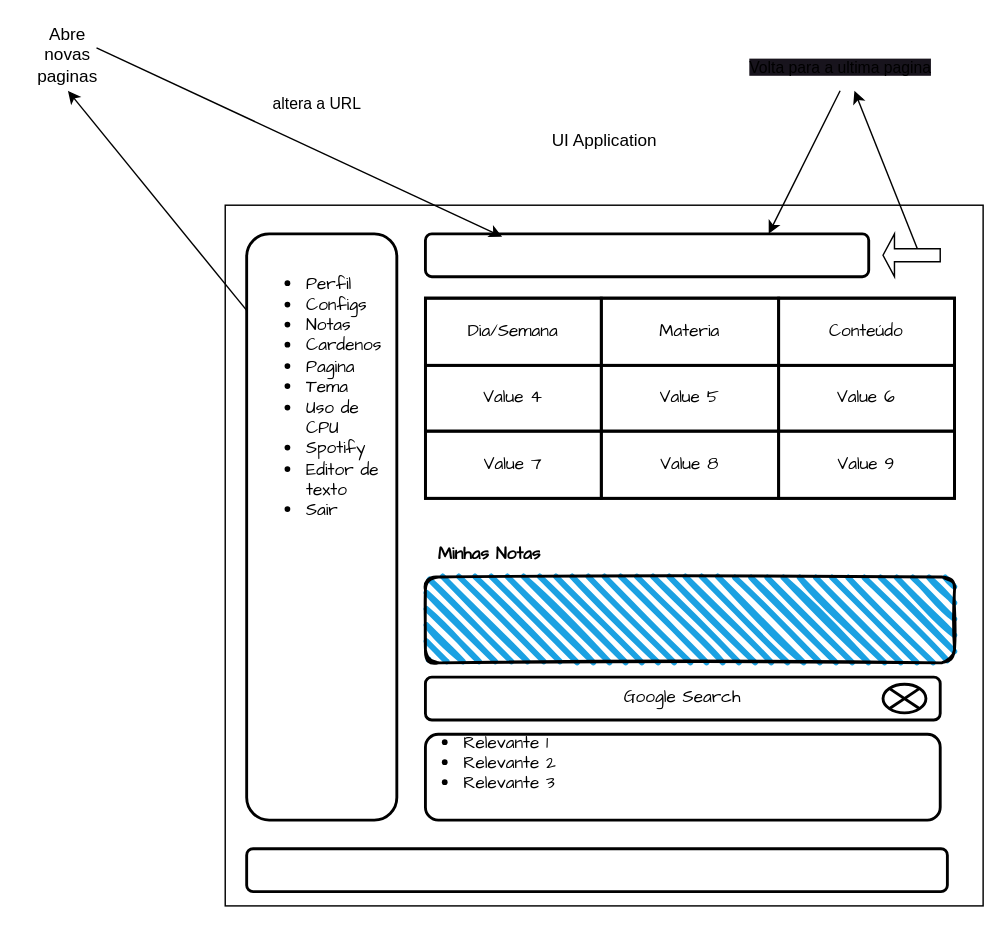
Some shapes in this 1008 by 931 pixel diagram are drawn without their labels. Each missing label, with the box of its shape:
Options | CPU USAGE GRAFICO | WINDOWNS NOTIFICATIONS: (245, 847, 948, 892)
url do path: my-notion/home: (423, 232, 869, 277)
